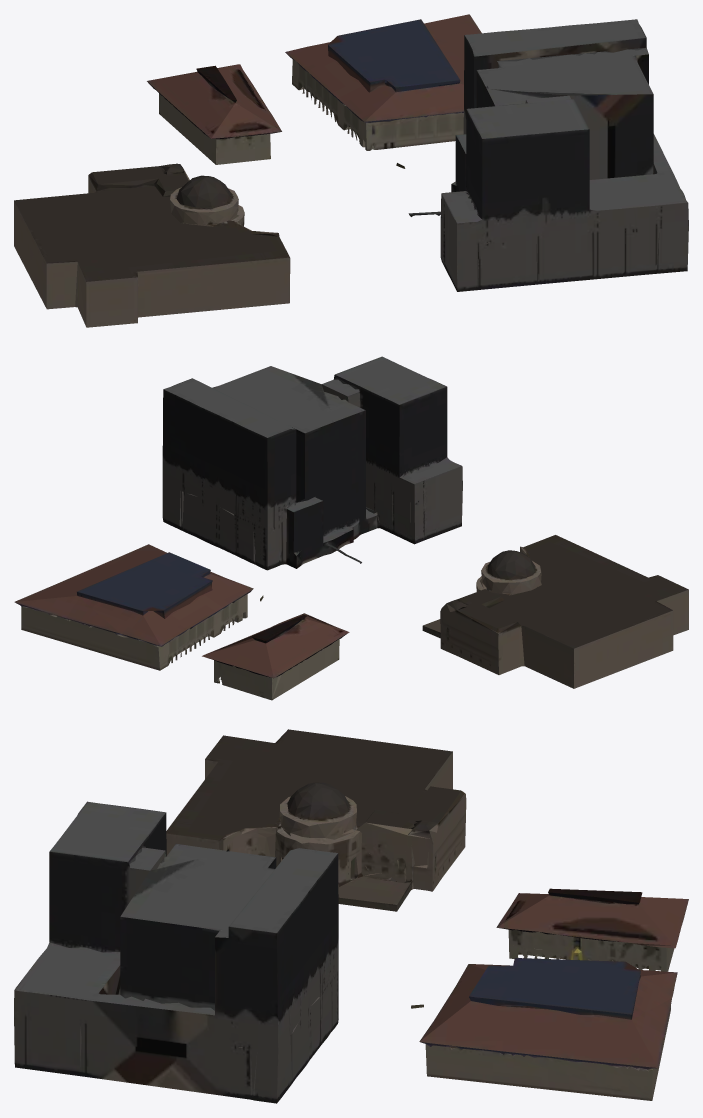
Rendered from t_0_2.coat.glb.
3 views of the same model, one above another, from view 1: azimuth 30°, elevation 25°; view 2: azimuth 150°, elevation 25°; view 3: azimuth 270°, elevation 25° (orthographic). The views are drawn at different scales.
Parts seen in each view (by area): view 1: far; view 2: far; view 3: far.
Boxes of the visible parts, x1,y1,x2,y2 form: far: (14, 14, 688, 327); far: (14, 356, 688, 700); far: (14, 729, 688, 1103).
Size of the model in its own units: 252 by 62.04 by 223.
1 material, 1 textured.
